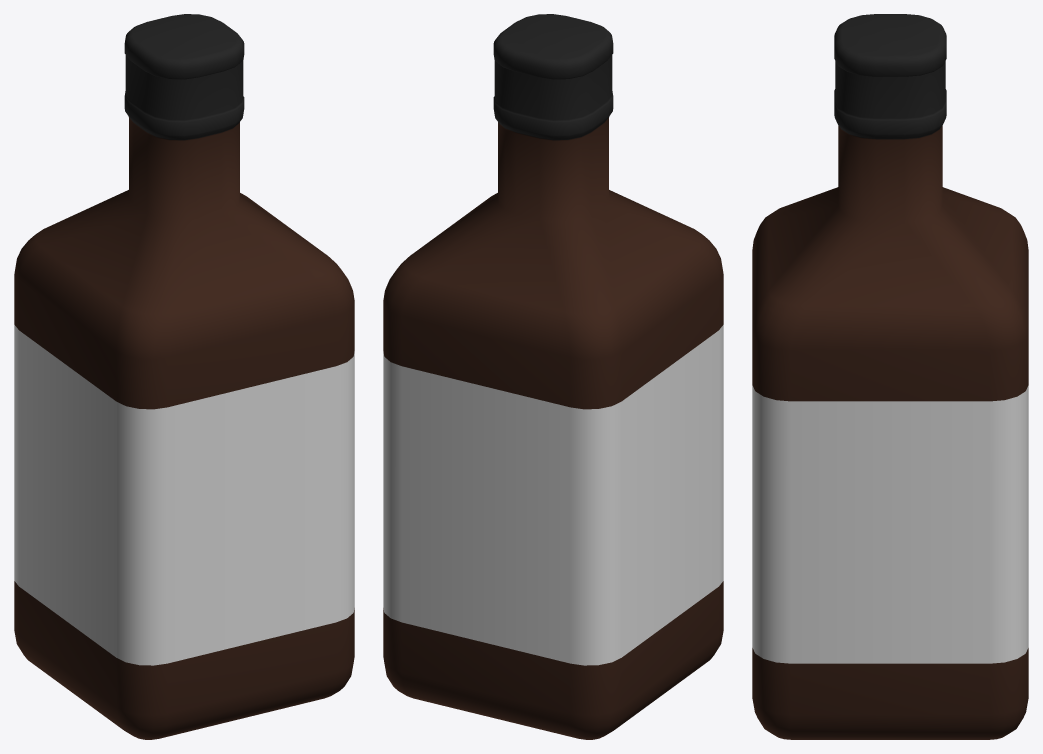
Rendered from Bottle.fbx.
The picture shows the model from 3 angles, left to right: view 1: azimuth 30°, elevation 25°; view 2: azimuth 150°, elevation 25°; view 3: azimuth 270°, elevation 25°; orthographic projection. The views are drawn at different scales.
Parts seen in each view (by area): view 1: Cube; view 2: Cube; view 3: Cube.
Boxes of the visible parts, x1,y1,x2,y2 form: Cube: (14,14,354,739); Cube: (383,14,723,739); Cube: (752,14,1028,739).
Size of the model in its own units: 200 by 526 by 200.
